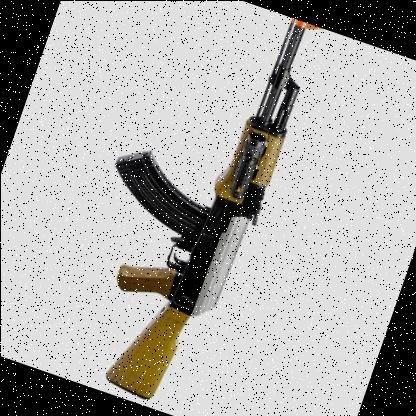rifle: (53, 0, 344, 416)
